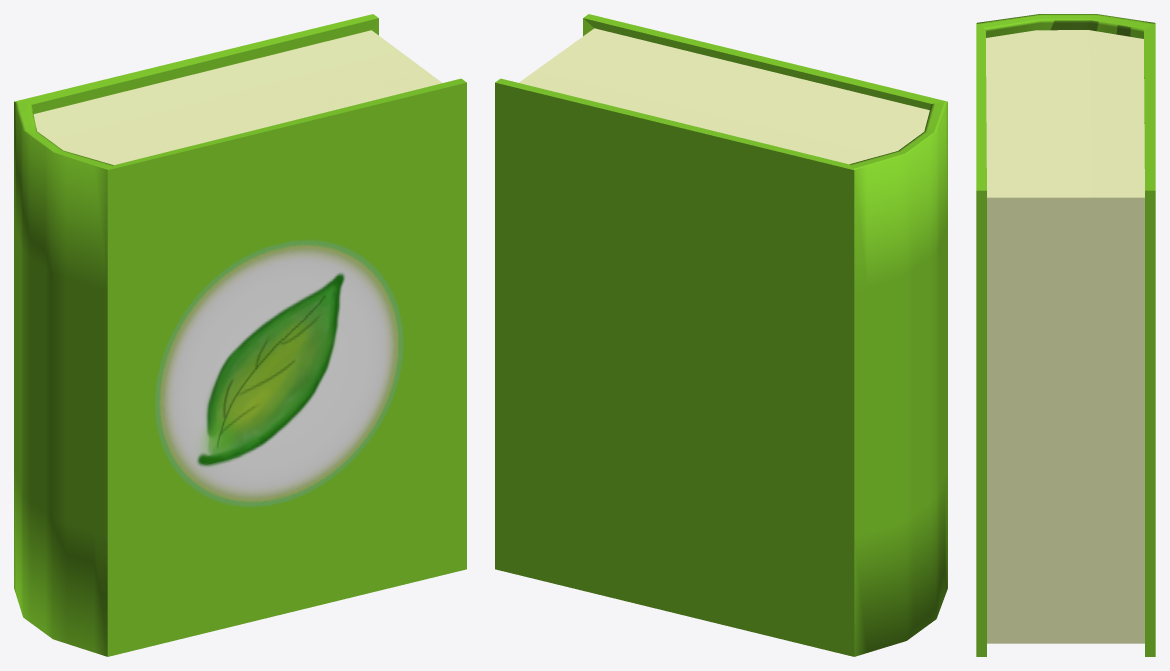
File: Plant Book.fbx
The picture shows the model from 3 angles, left to right: view 1: azimuth 30°, elevation 25°; view 2: azimuth 150°, elevation 25°; view 3: azimuth 270°, elevation 25°; orthographic projection. The views are drawn at different scales.
Parts seen in each view (by area): view 1: Paper Outside, Cube; view 2: Paper Outside, Cube; view 3: Cube, Paper Outside.
Part boxes in pixels (x1=…): Paper Outside: x1=14, y1=14, x2=466, y2=656; Cube: x1=33, y1=30, x2=442, y2=164; Paper Outside: x1=495, y1=14, x2=947, y2=656; Cube: x1=519, y1=28, x2=929, y2=164; Cube: x1=986, y1=30, x2=1144, y2=643; Paper Outside: x1=976, y1=14, x2=1155, y2=656.
Size of the model in its own units: 164 by 201 by 69.79.
